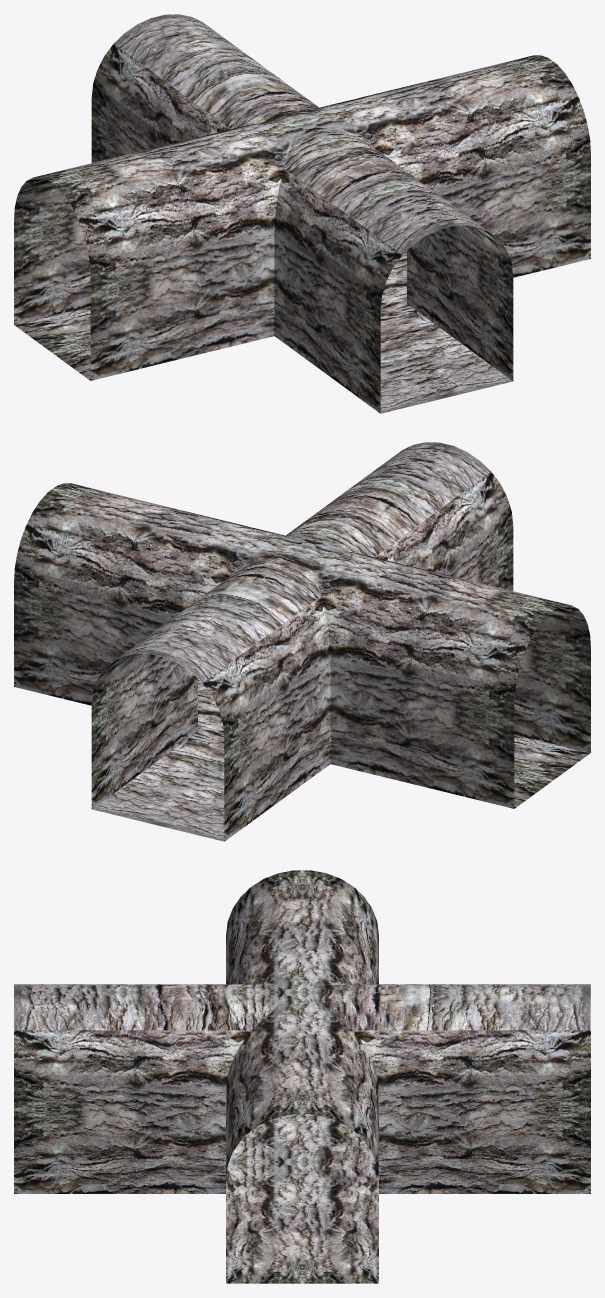
The picture shows the model from 3 angles, top to bottom: view 1: azimuth 30°, elevation 25°; view 2: azimuth 150°, elevation 25°; view 3: azimuth 270°, elevation 25°; orthographic projection.
Visible parts, largest first — view 1: hd; view 2: hd; view 3: hd.
Part boxes in pixels (left/top/right/bottom): hd: left=14, top=14, right=590, bottom=413; hd: left=14, top=442, right=590, bottom=841; hd: left=14, top=870, right=590, bottom=1283.
Bounding box in the file's own units: 20 × 6.49 × 20.
Materials: 1 (1 with a texture image).
